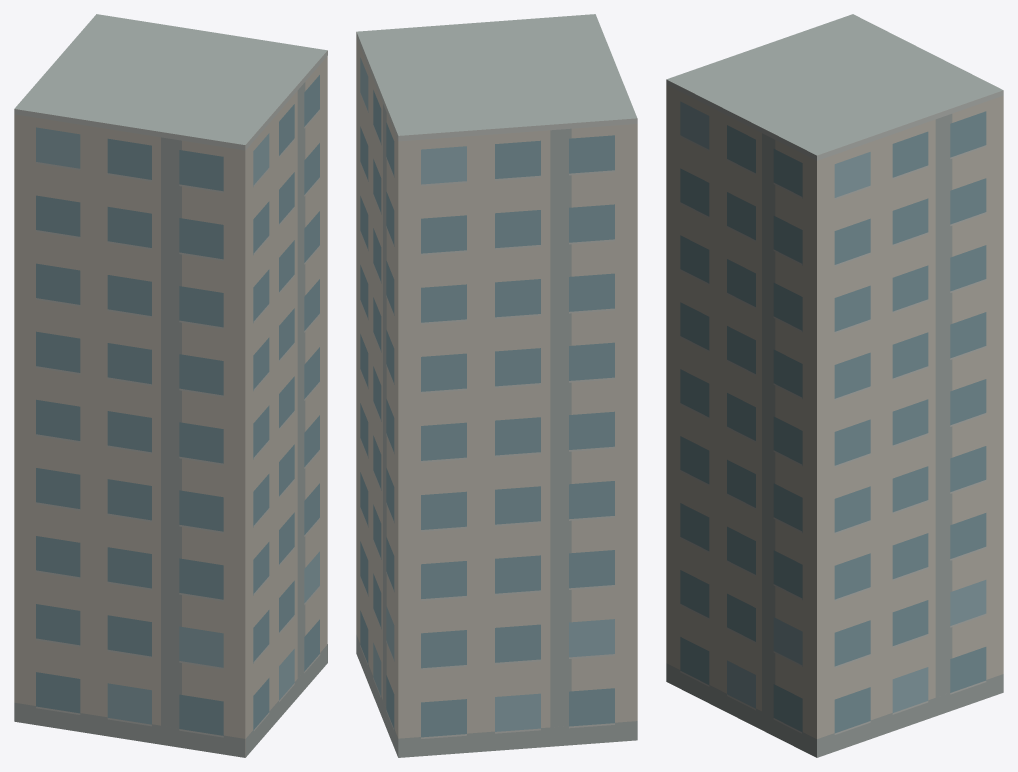
The model's file is survey-upis-32528501.glb.
3 renders of one model, left to right at view 1: azimuth 30°, elevation 25°; view 2: azimuth 150°, elevation 25°; view 3: azimuth 270°, elevation 25°, orthographic. The views are drawn at different scales.
Parts seen in each view (by area): view 1: survey-upis-32528501.tmp; view 2: survey-upis-32528501.tmp; view 3: survey-upis-32528501.tmp.
Boxes of the visible parts, x1,y1,x2,y2 form: survey-upis-32528501.tmp: (14, 14, 327, 757); survey-upis-32528501.tmp: (356, 14, 637, 757); survey-upis-32528501.tmp: (666, 14, 1003, 757).
Bounding box in the file's own units: 13.85 × 27.45 × 13.94.
